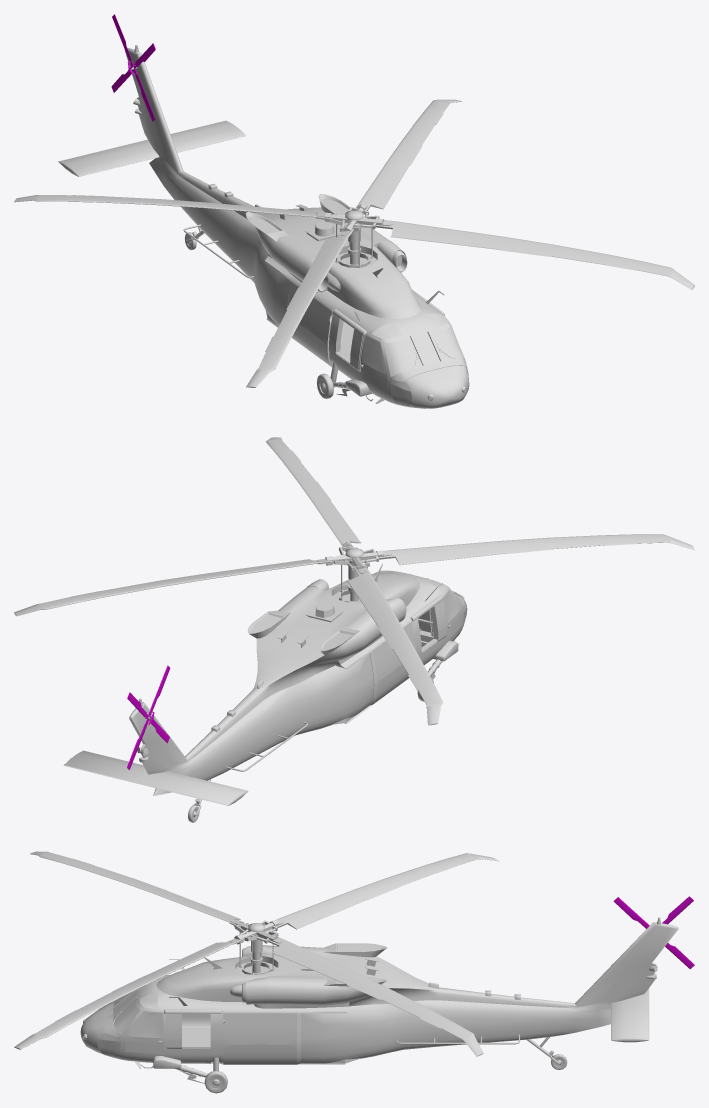
File: MilitaryHelicopterV1_fbx.fbx
The picture shows the model from 3 angles, top to bottom: view 1: azimuth 30°, elevation 25°; view 2: azimuth 150°, elevation 25°; view 3: azimuth 270°, elevation 25°; orthographic projection. The views are drawn at different scales.
Visible parts, largest first — view 1: HelicopterBody, WiekenEtc, Windows, AchterDeuren, Voordeuren, Tail Wieken, TopPart; view 2: HelicopterBody, WiekenEtc, Windows, AchterDeuren, Tail Wieken; view 3: HelicopterBody, WiekenEtc, Windows, AchterDeuren, Voordeuren, Tail Wieken, TopPart.
Part boxes in pixels (box(x1,y1,x2,y2)): HelicopterBody: box(58, 45, 469, 408); WiekenEtc: box(14, 99, 694, 387); Windows: box(293, 291, 468, 405); AchterDeuren: box(286, 282, 332, 366); Voordeuren: box(350, 329, 387, 392); Tail Wieken: box(111, 14, 155, 121); TopPart: box(334, 210, 376, 267); HelicopterBody: box(63, 563, 466, 822); WiekenEtc: box(14, 437, 694, 725); Windows: box(374, 570, 467, 679); AchterDeuren: box(370, 622, 416, 705); Tail Wieken: box(127, 665, 170, 769); HelicopterBody: box(80, 917, 678, 1093); WiekenEtc: box(14, 851, 498, 1056); Windows: box(97, 991, 291, 1057); AchterDeuren: box(223, 1013, 300, 1064); Voordeuren: box(125, 1011, 181, 1053); Tail Wieken: box(613, 896, 694, 969); TopPart: box(236, 923, 276, 974).
Bounding box in the file's own units: 1586 × 616 × 2225.
